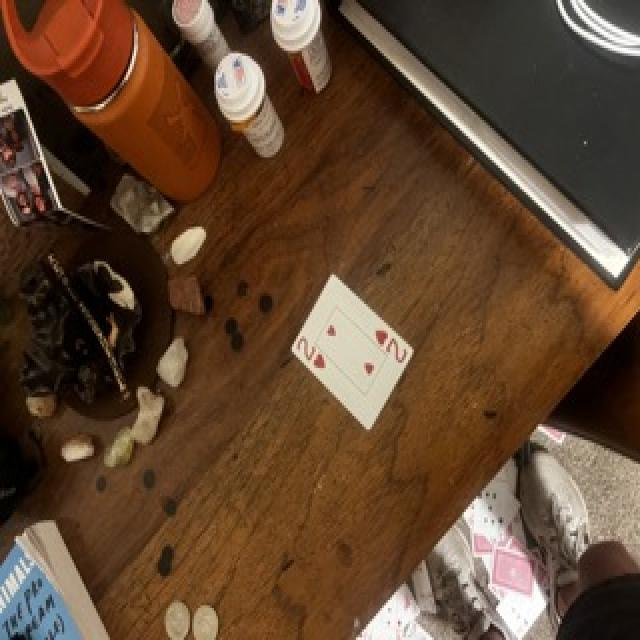2 of hearts: (291, 275, 414, 430)
